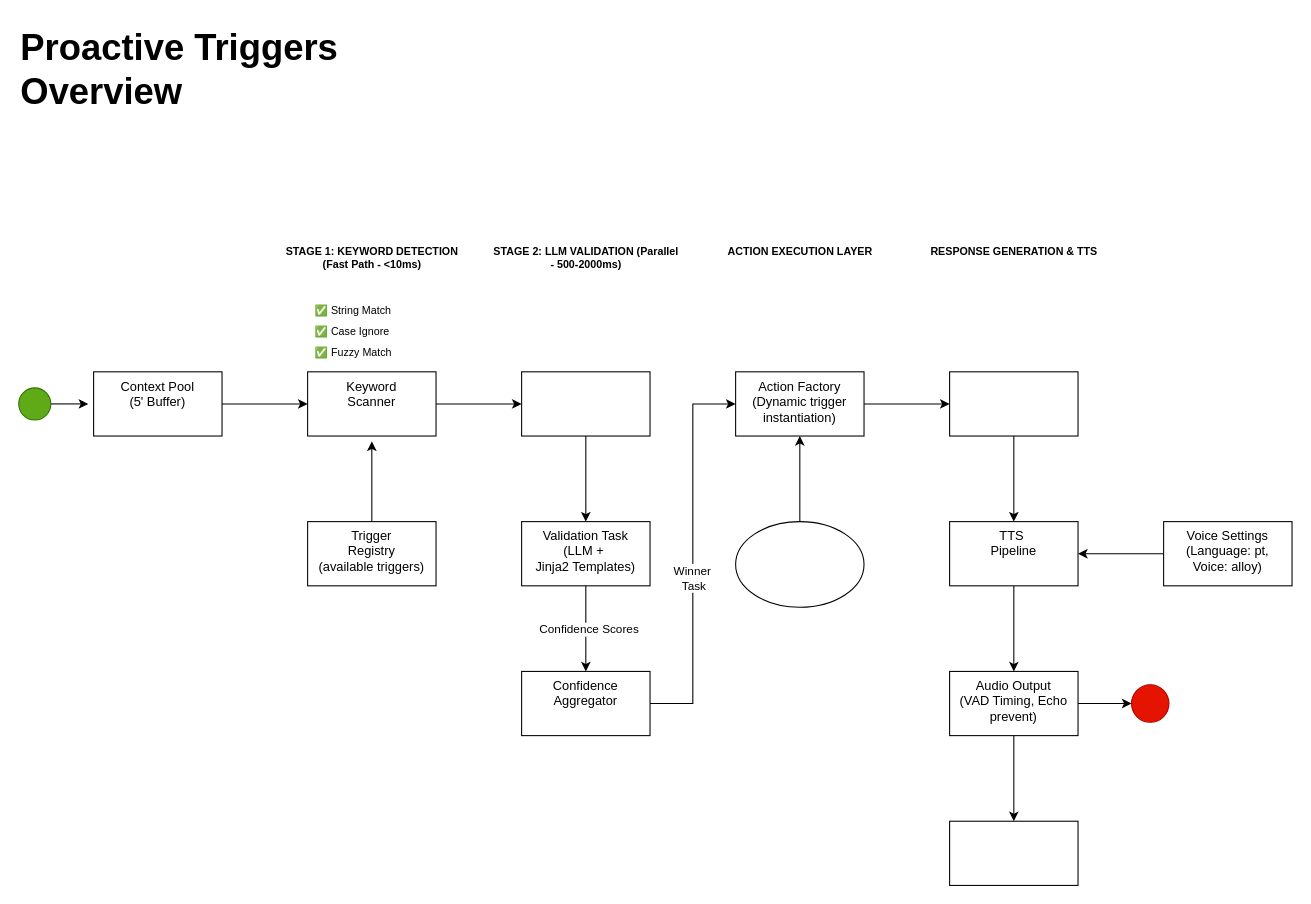
Image size: 1311x904. Some labels were removed from this diagram. Each missing label, with the box of its shape:
Context Update: (949, 820, 1078, 885)
External APIs Data Sources etc...: (735, 521, 864, 607)
Response Queue ( Async processing): (949, 371, 1078, 436)
Thread Pool Manager: (521, 371, 650, 436)
